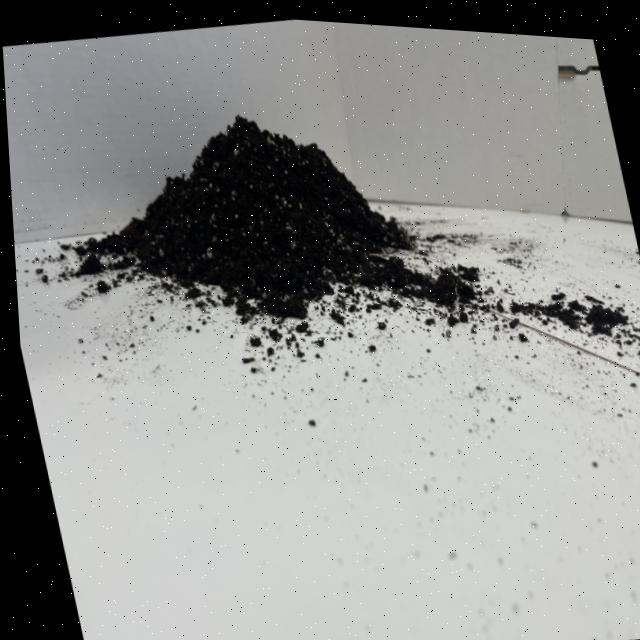soil: (29, 68, 474, 370)
